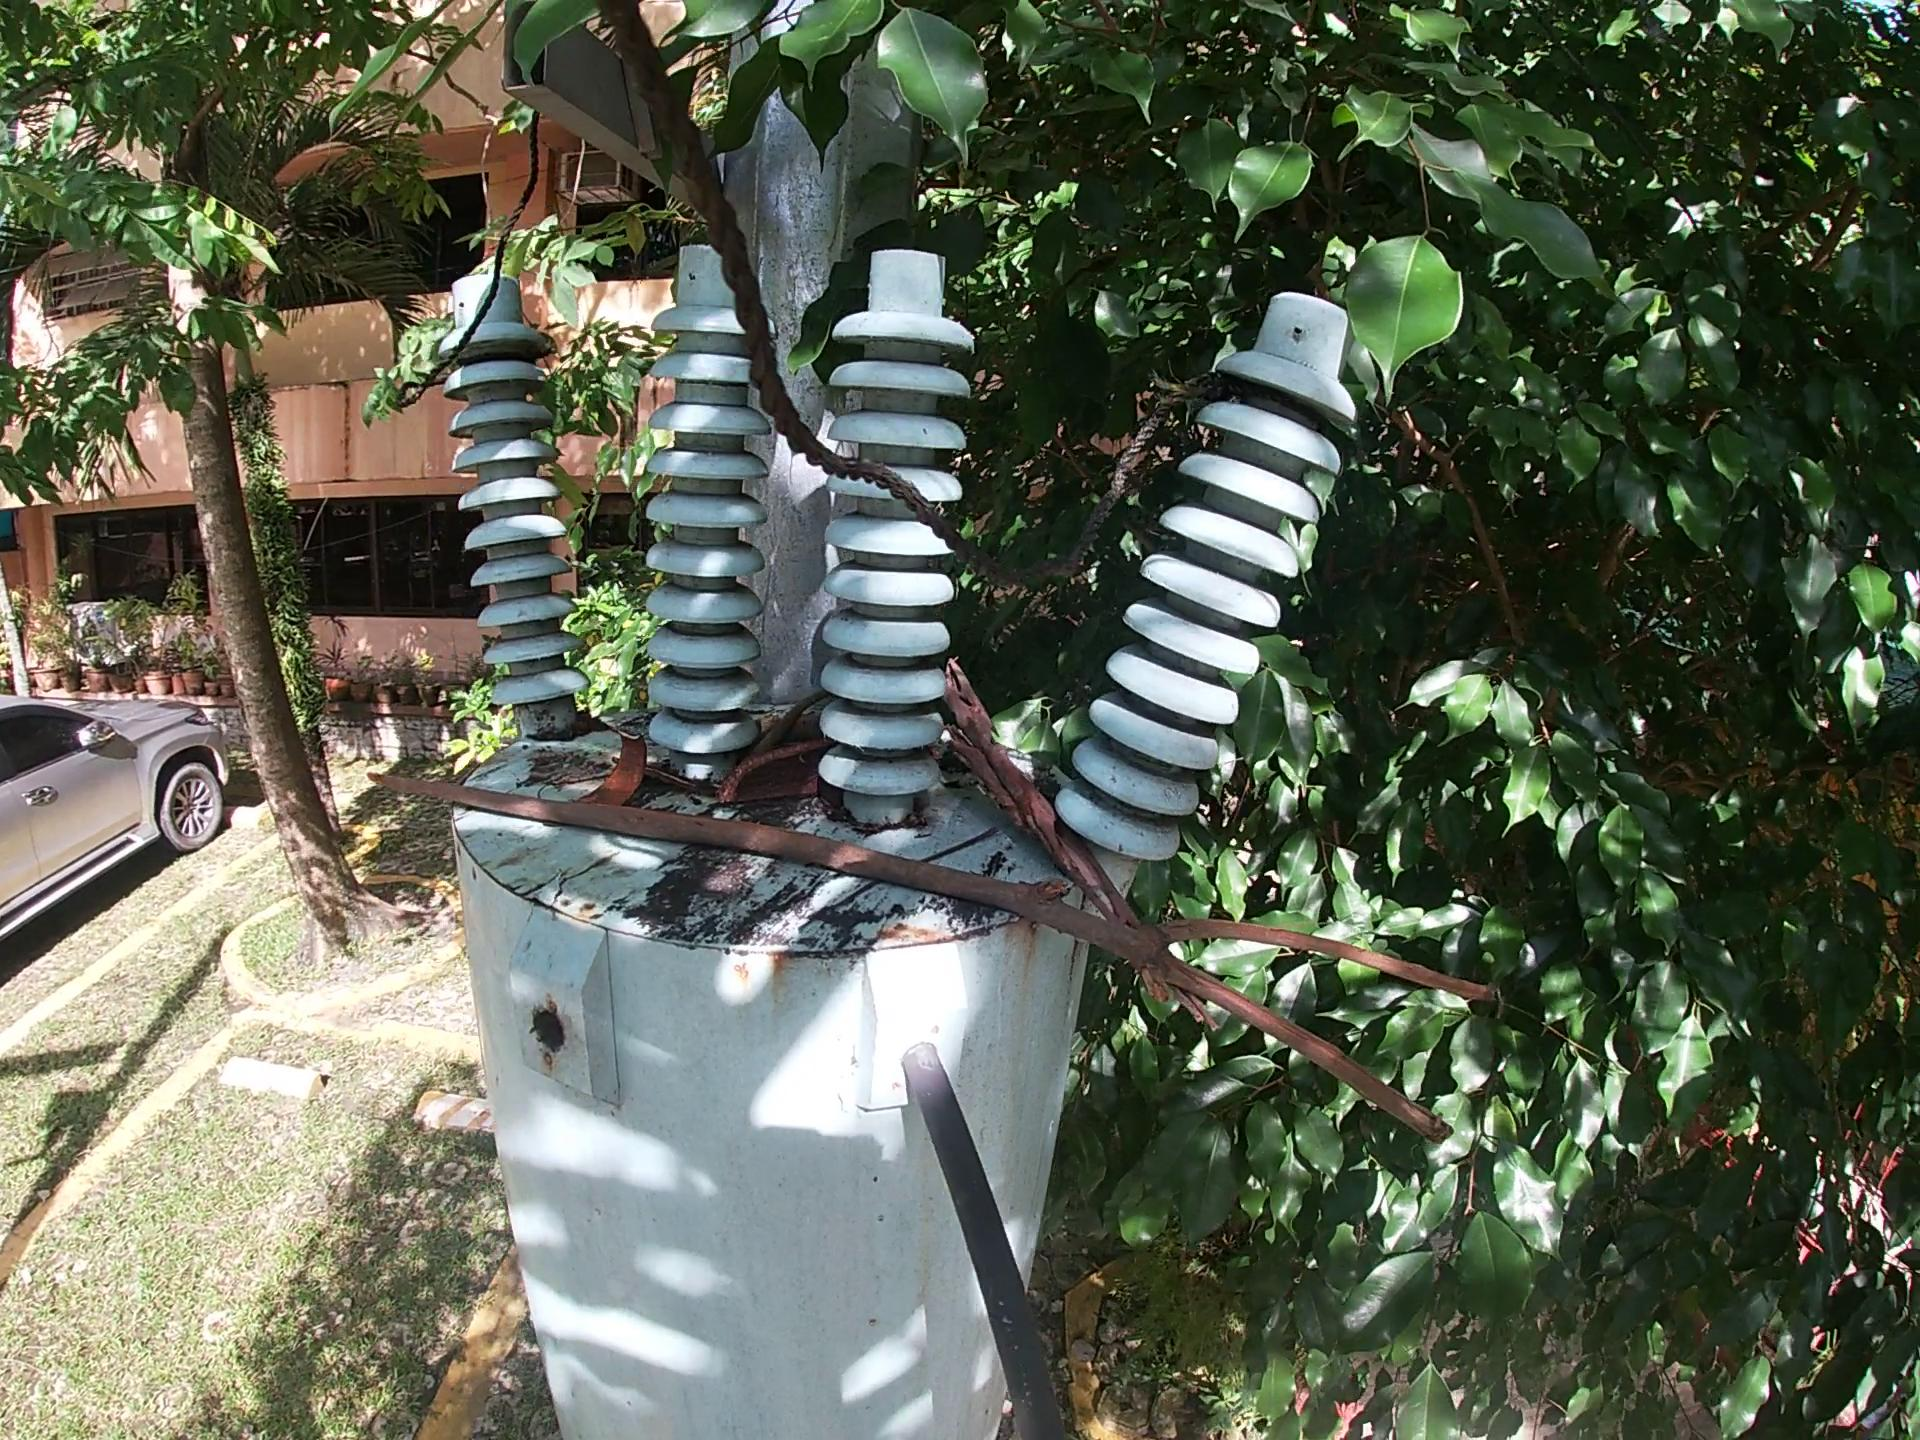mahogany fruit: (714, 740, 841, 814), (565, 728, 664, 811)
tree branch: (357, 762, 1503, 1154), (934, 655, 1220, 1041), (748, 688, 838, 764)
